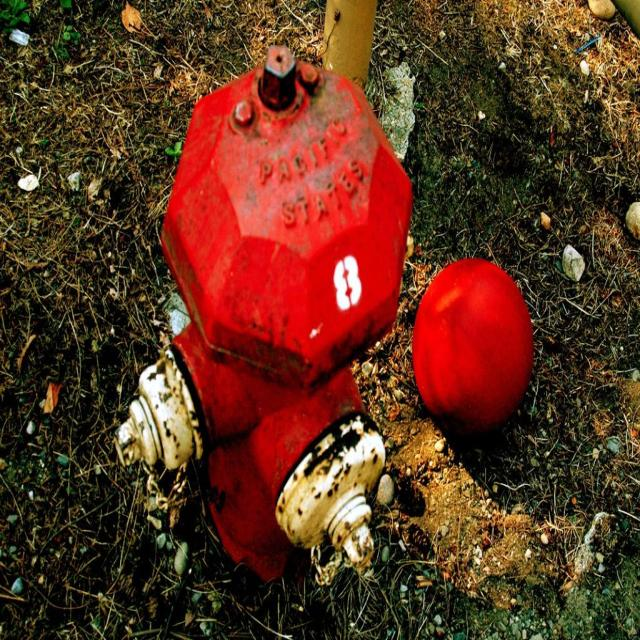fire_hydrant: (113, 48, 415, 582)
